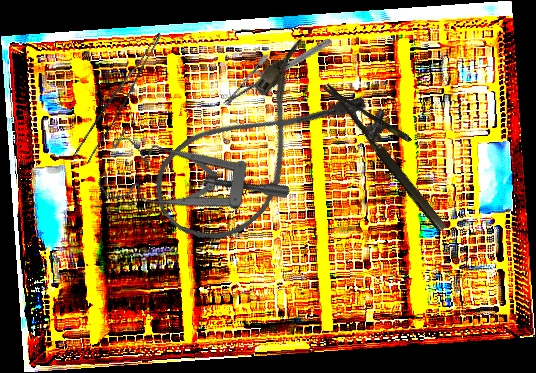Cannula: (135, 31, 374, 265)
Needle Holder: (322, 64, 468, 234), (221, 8, 334, 136)
Speculum: (87, 97, 292, 276)
Tissue Forceps: (73, 24, 162, 167)
